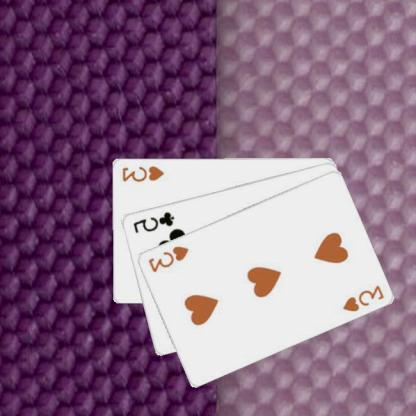3H: (146, 242, 192, 274), (341, 282, 387, 313), (121, 163, 166, 183)
5C: (131, 209, 177, 234)
